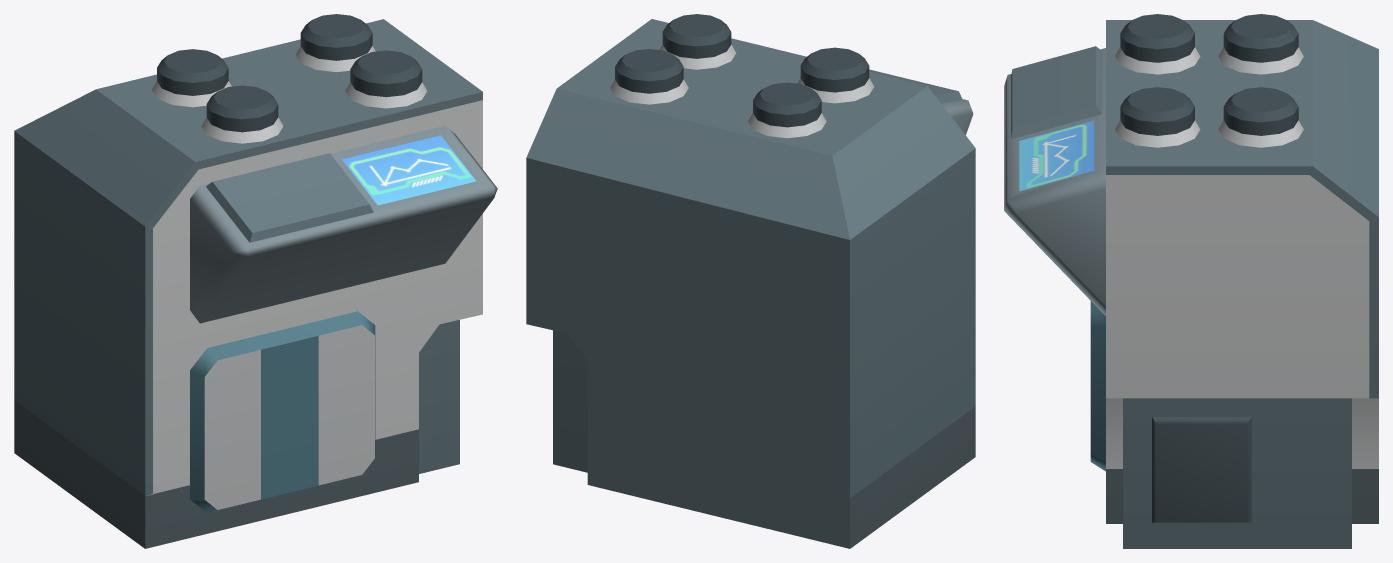
File: Mini_farm_004.fbx
The picture shows the model from 3 angles, left to right: view 1: azimuth 30°, elevation 25°; view 2: azimuth 150°, elevation 25°; view 3: azimuth 270°, elevation 25°; orthographic projection. The views are drawn at different scales.
Parts seen in each view (by area): view 1: Mini_farm_004; view 2: Mini_farm_004; view 3: Mini_farm_004.
Boxes of the visible parts, left/top/right/bottom form: Mini_farm_004: left=14, top=14, right=497, bottom=548; Mini_farm_004: left=526, top=14, right=975, bottom=548; Mini_farm_004: left=1004, top=14, right=1378, bottom=548.
Size of the model in its own units: 79.27 by 73.1 by 90.44.
